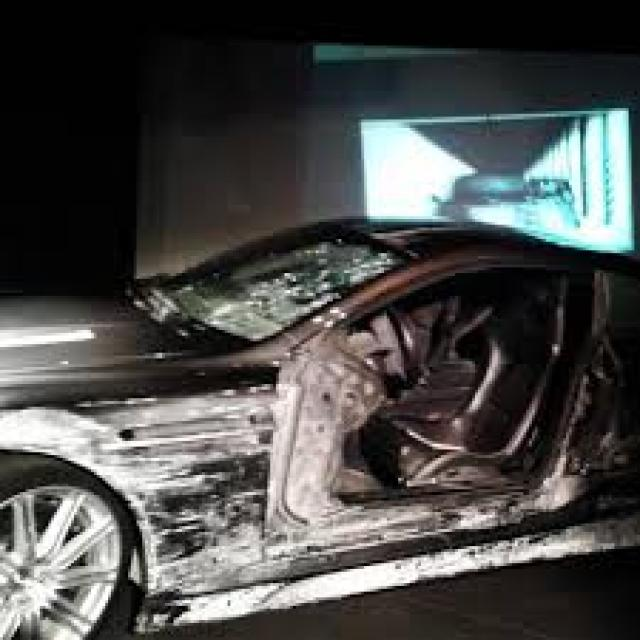moderate: (7, 183, 640, 629)
